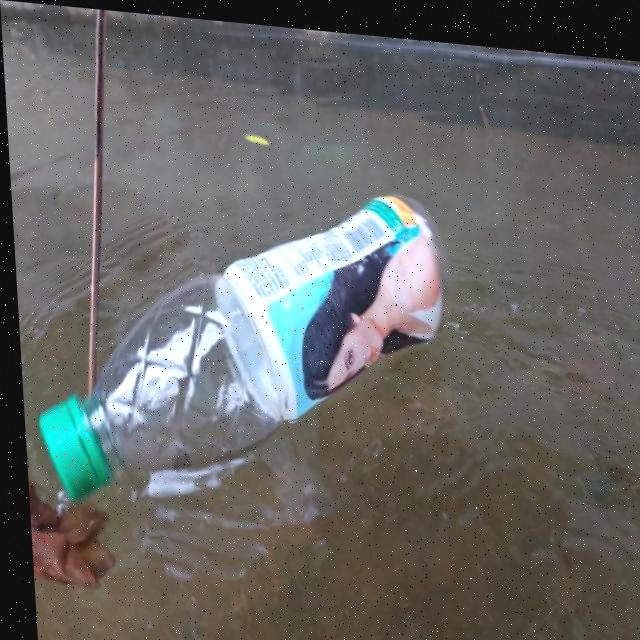leaf: (22, 474, 105, 595)
waterbottle: (22, 157, 474, 532)
